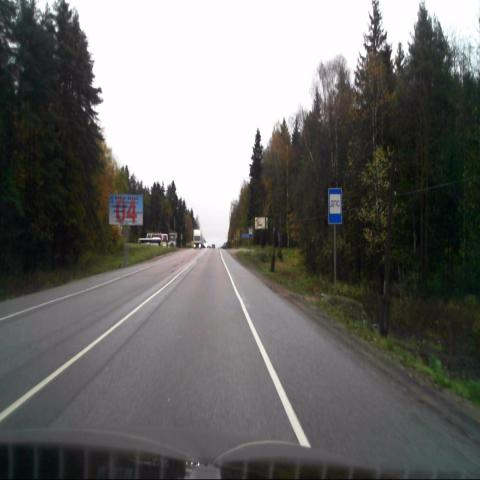7_12: (328, 188, 342, 224)
